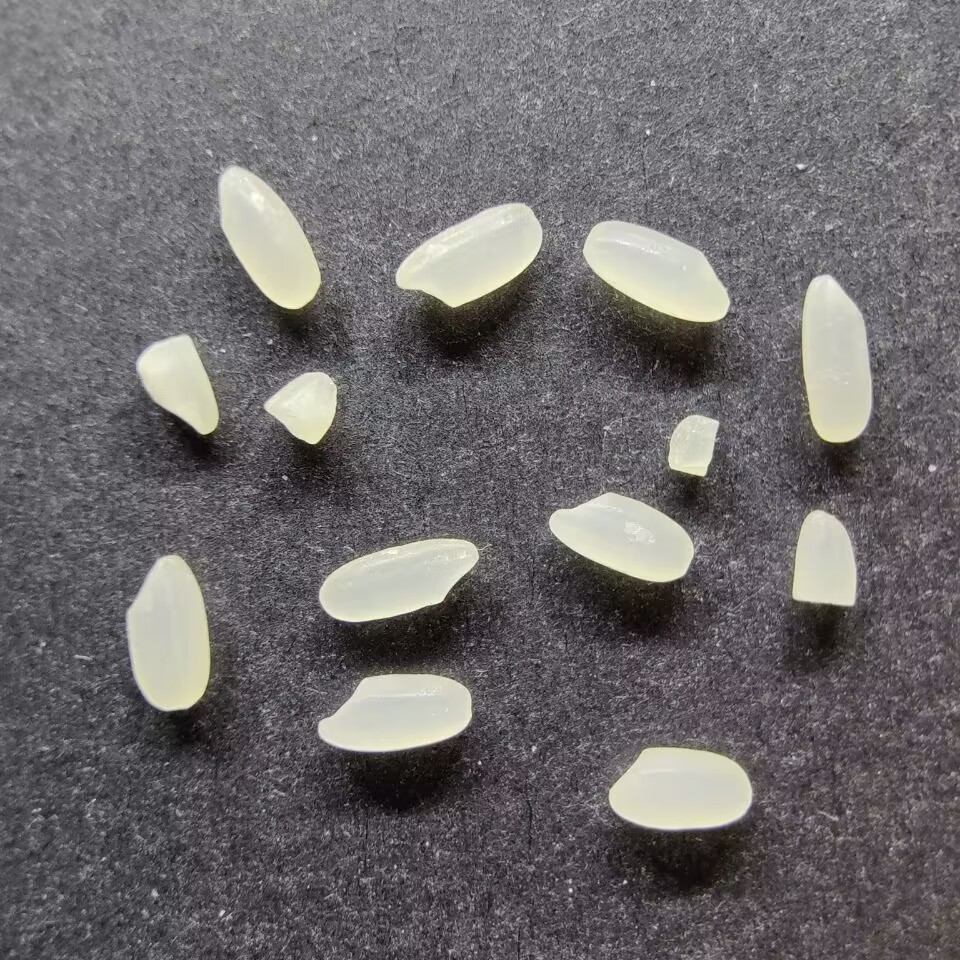broken: (136, 333, 220, 435), (791, 508, 857, 607), (262, 370, 338, 445), (666, 414, 719, 478)
rice: (394, 201, 543, 308), (581, 219, 730, 322), (217, 165, 321, 310), (317, 537, 478, 623), (547, 491, 694, 583), (125, 554, 209, 710), (316, 672, 472, 752), (800, 273, 873, 443), (607, 746, 751, 830)
